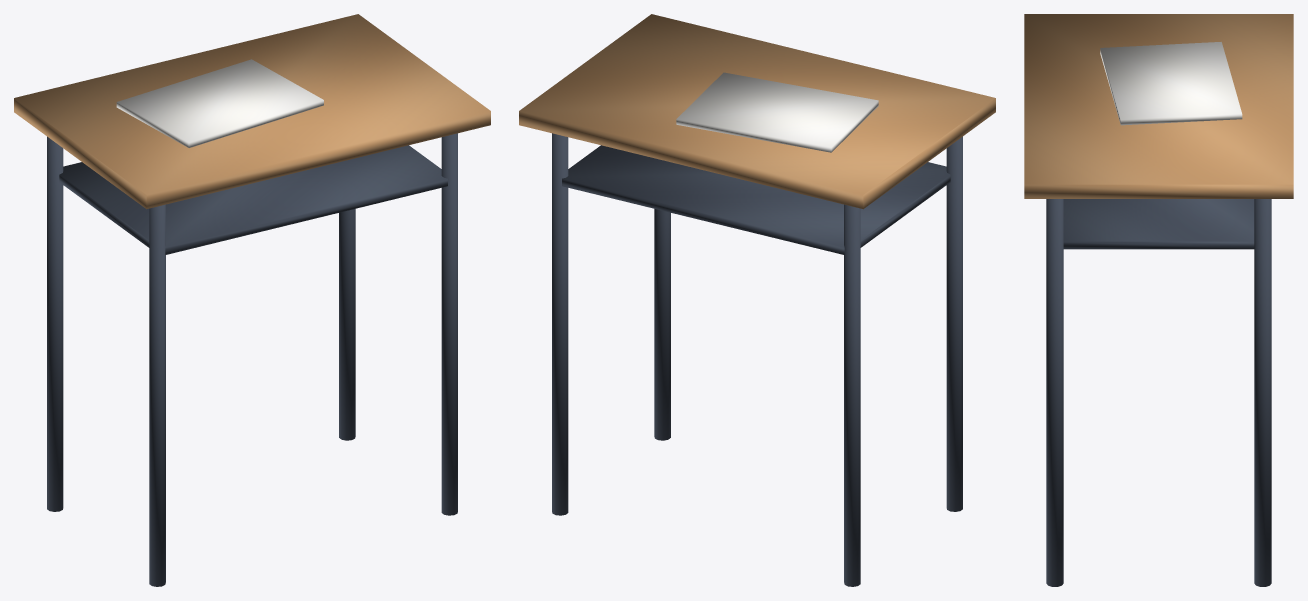
Rendered from academy-desk.glb.
3 renders of one model, left to right at view 1: azimuth 30°, elevation 25°; view 2: azimuth 150°, elevation 25°; view 3: azimuth 270°, elevation 25°, orthographic.
Visible parts, largest first — view 1: TS_StageProp_academy-desk; view 2: TS_StageProp_academy-desk; view 3: TS_StageProp_academy-desk.
Part boxes in pixels (x1,y1,x2,y2): TS_StageProp_academy-desk: (14, 14, 490, 586); TS_StageProp_academy-desk: (519, 14, 995, 586); TS_StageProp_academy-desk: (1024, 14, 1293, 586).
Size of the model in its own units: 0.66 by 0.753 by 0.44.
Materials: 1 (1 with a texture image).
